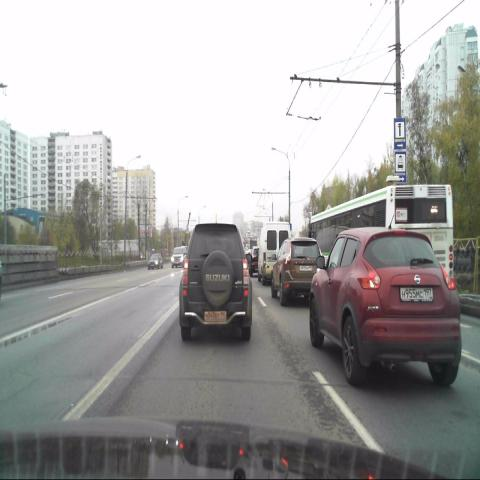7_4: (394, 118, 406, 149)
